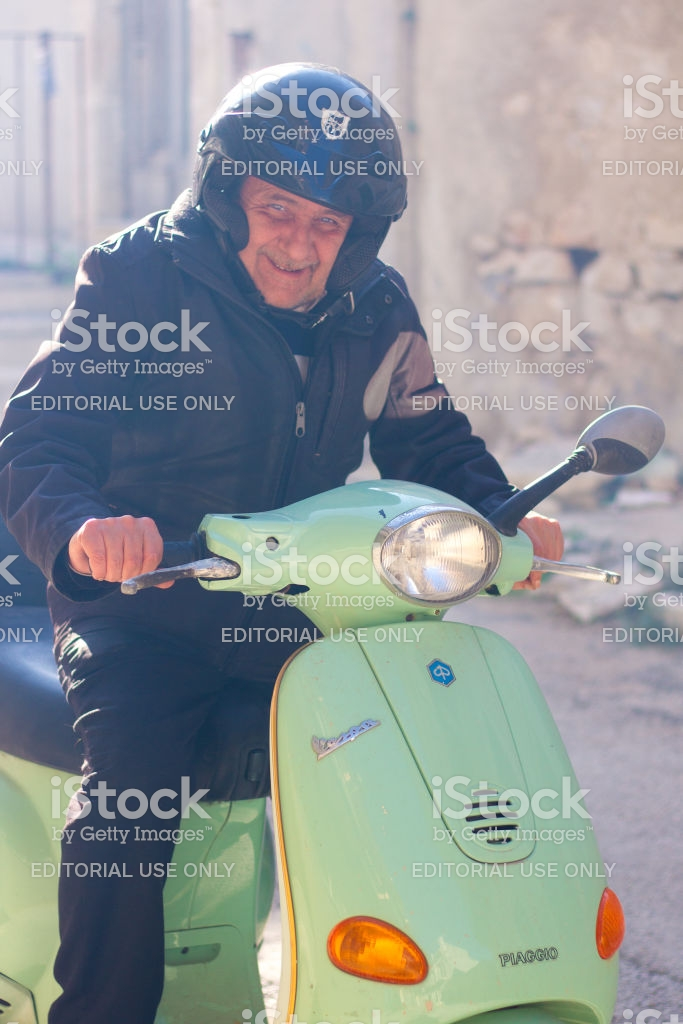helmet: (183, 67, 422, 243)
